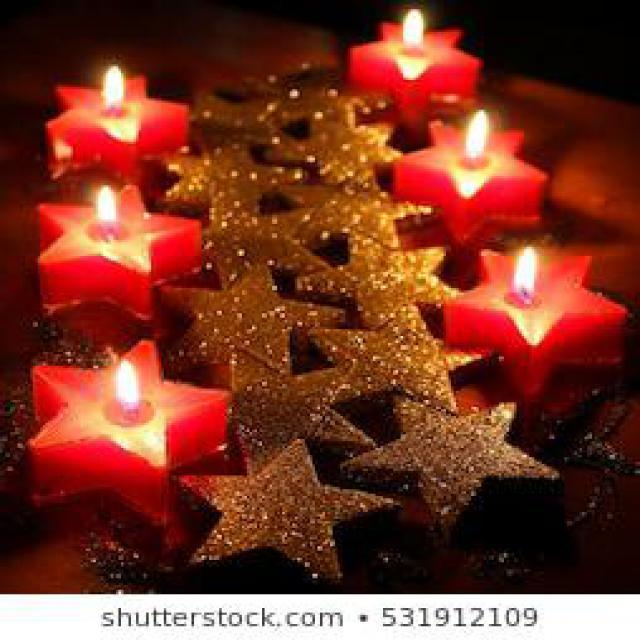Fire: (465, 108, 490, 162), (515, 244, 538, 300), (117, 358, 140, 412), (101, 65, 126, 111), (400, 8, 426, 52), (94, 186, 118, 228)
